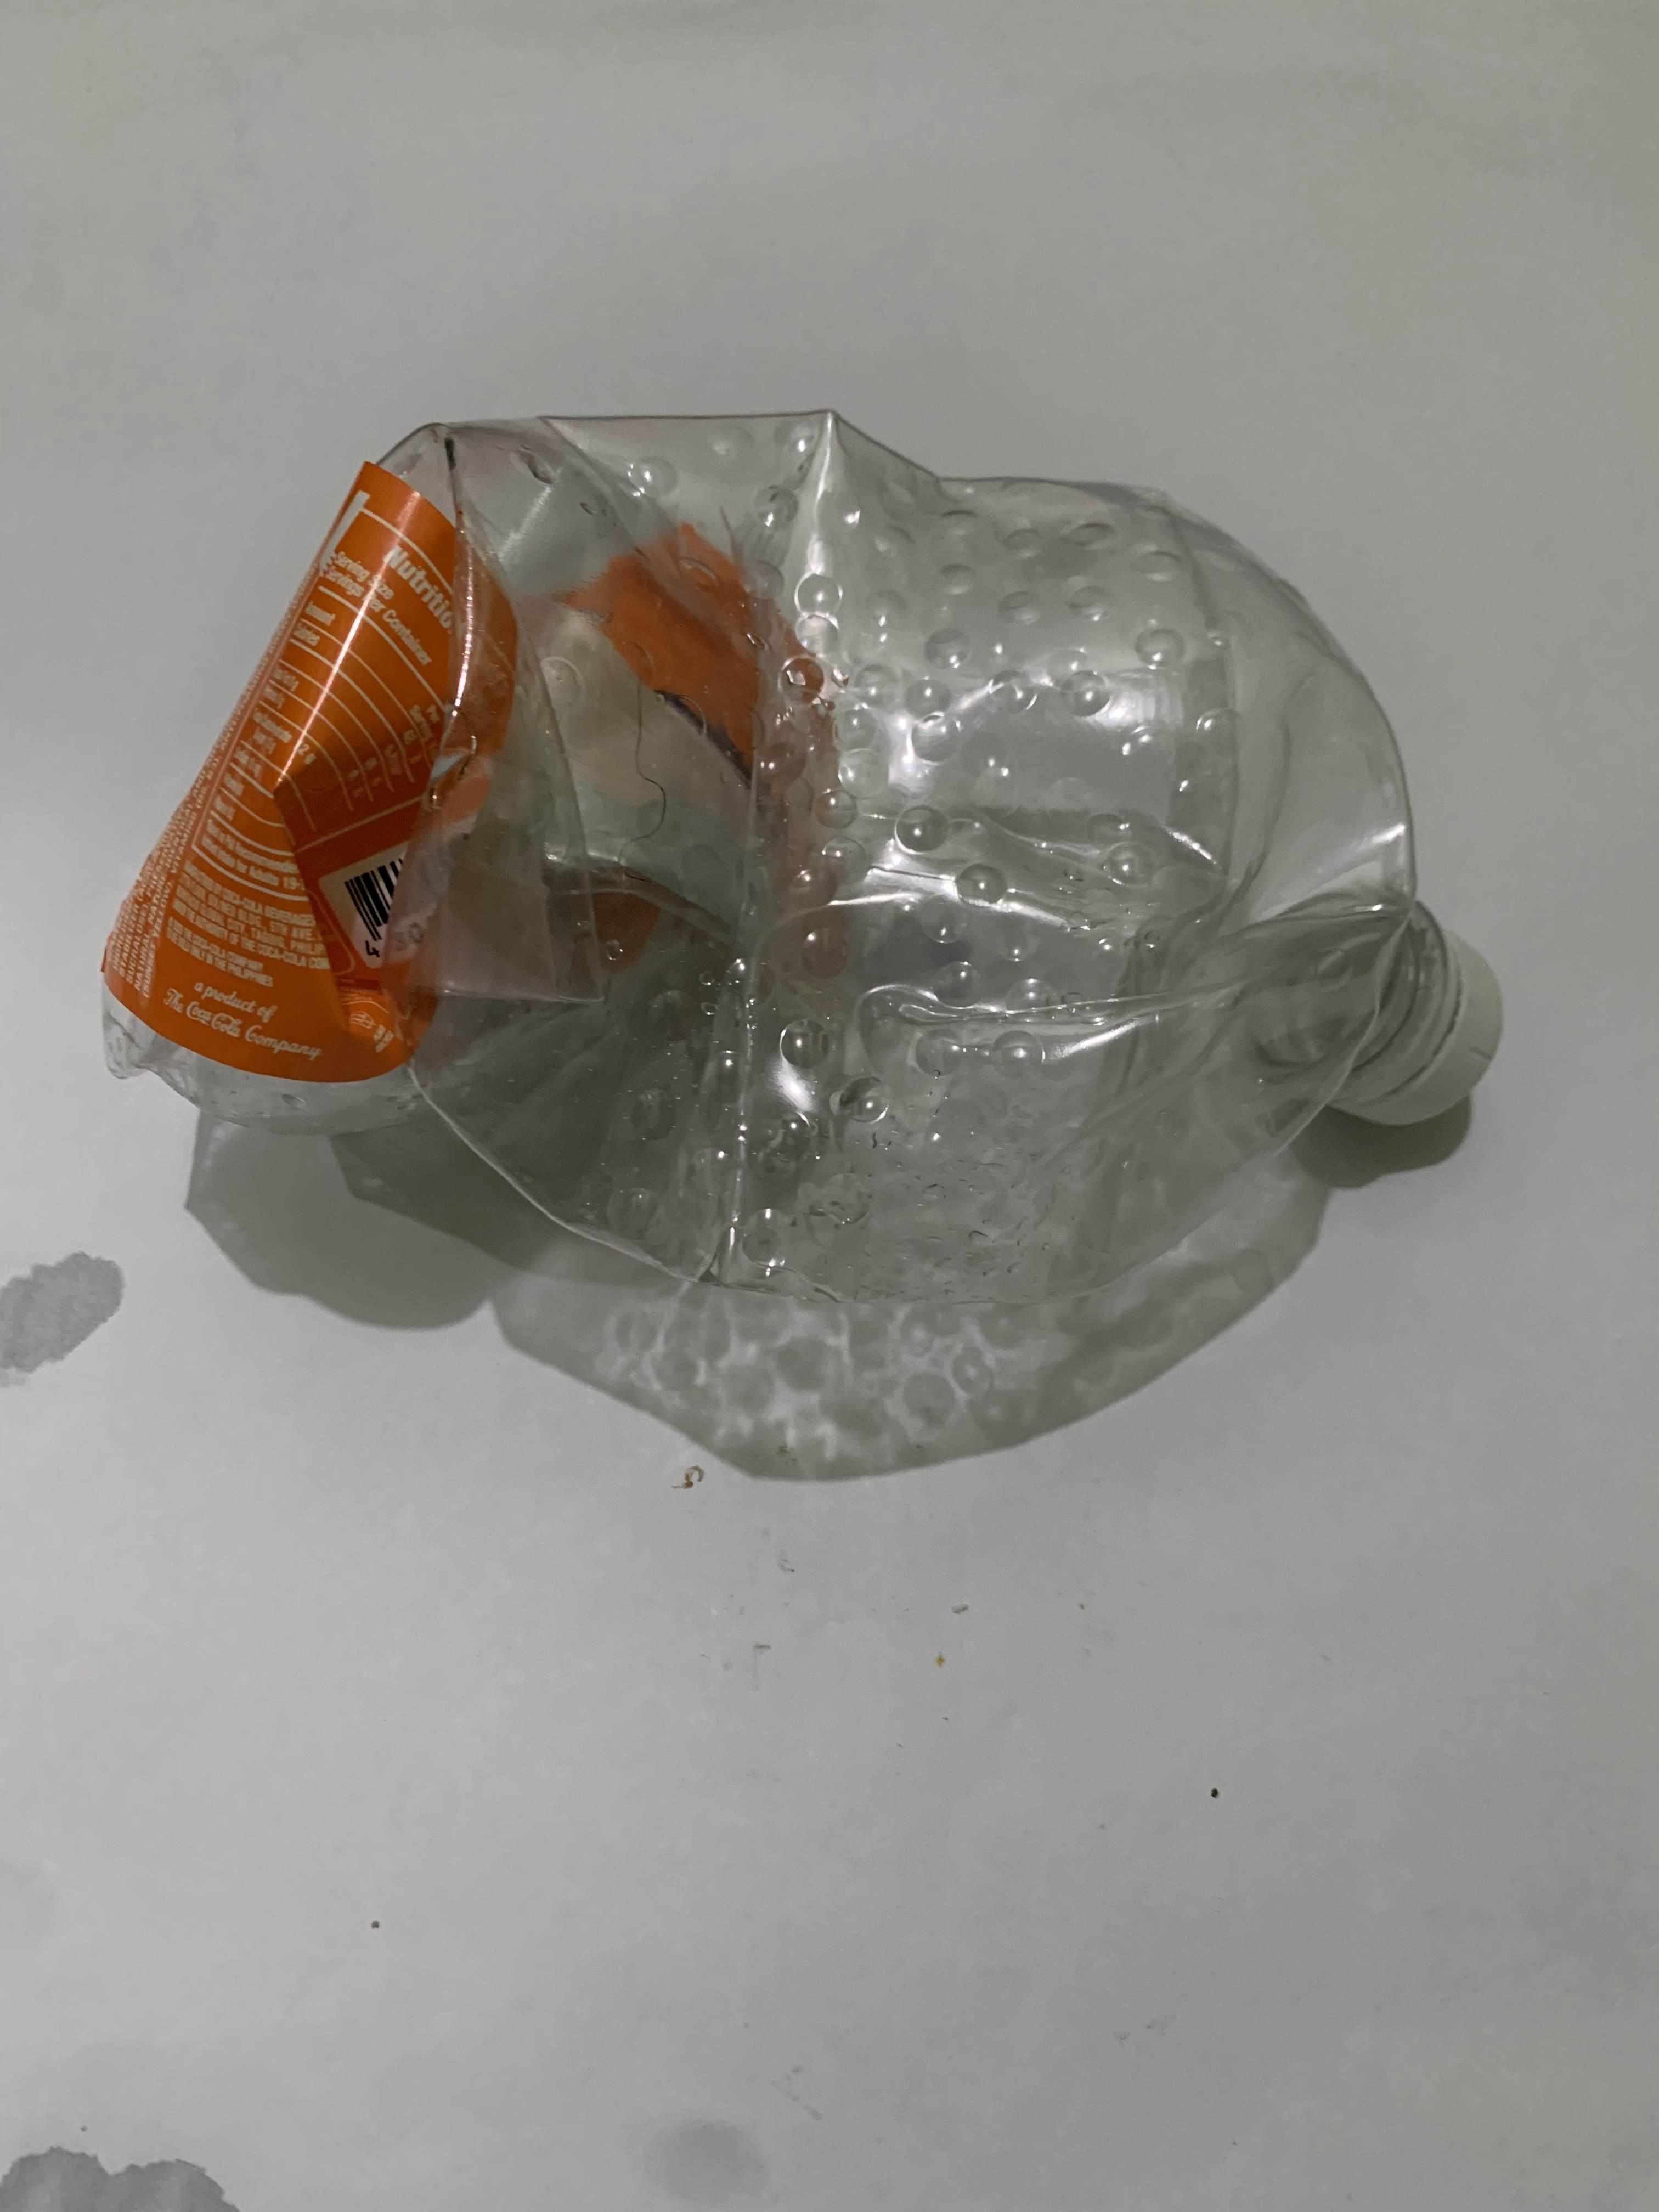bottle: (82, 390, 1514, 1327)
